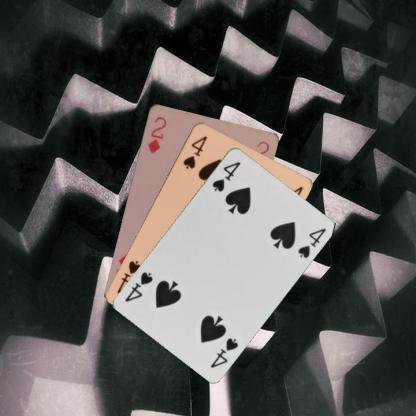2d: (144, 114, 168, 155)
4s: (207, 334, 240, 370), (209, 158, 242, 193), (180, 133, 209, 170)
